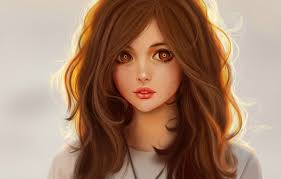e.brown: (157, 50, 172, 62)
